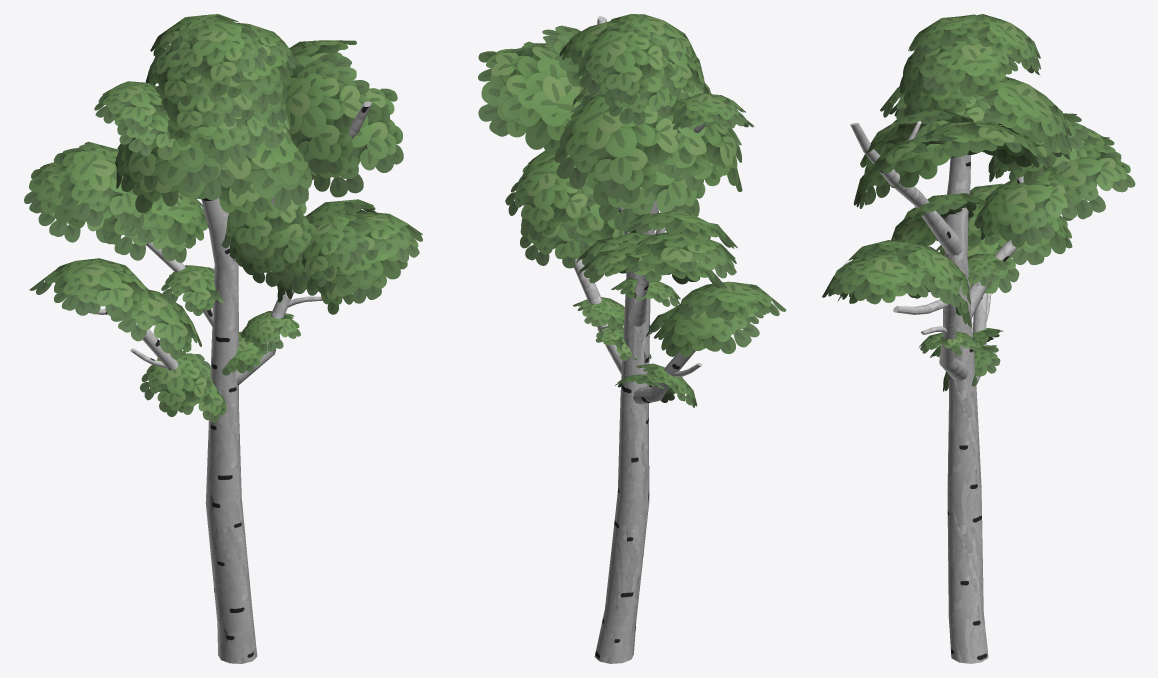
File: Birch_3.gltf
3 views of the same model, side by side, from view 1: azimuth 30°, elevation 25°; view 2: azimuth 150°, elevation 25°; view 3: azimuth 270°, elevation 25° (orthographic). The views are drawn at different scales.
Parts seen in each view (by area): view 1: Birch_1; view 2: Birch_1; view 3: Birch_1.
Boxes of the visible parts, <box> form: Birch_1: <box>24,14,422,663</box>; Birch_1: <box>478,14,786,663</box>; Birch_1: <box>822,14,1135,663</box>.
Size of the model in its own units: 4.89 by 9.48 by 4.46.
2 materials, 2 textured.
